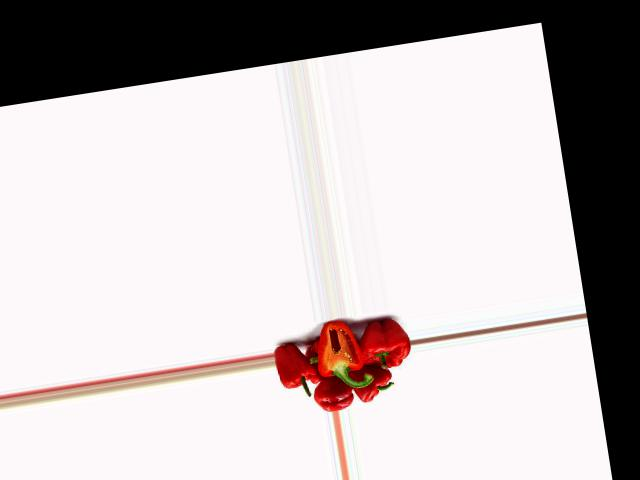bell_pepper: (348, 363, 396, 404)
